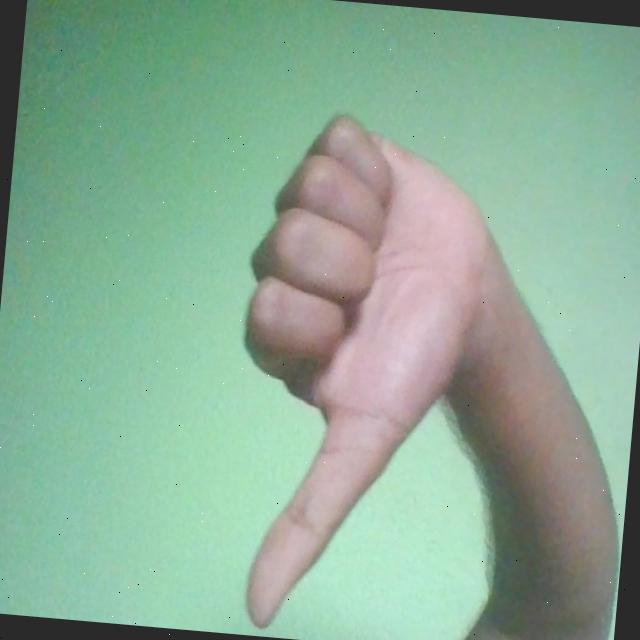Dislike: (218, 108, 501, 640)
